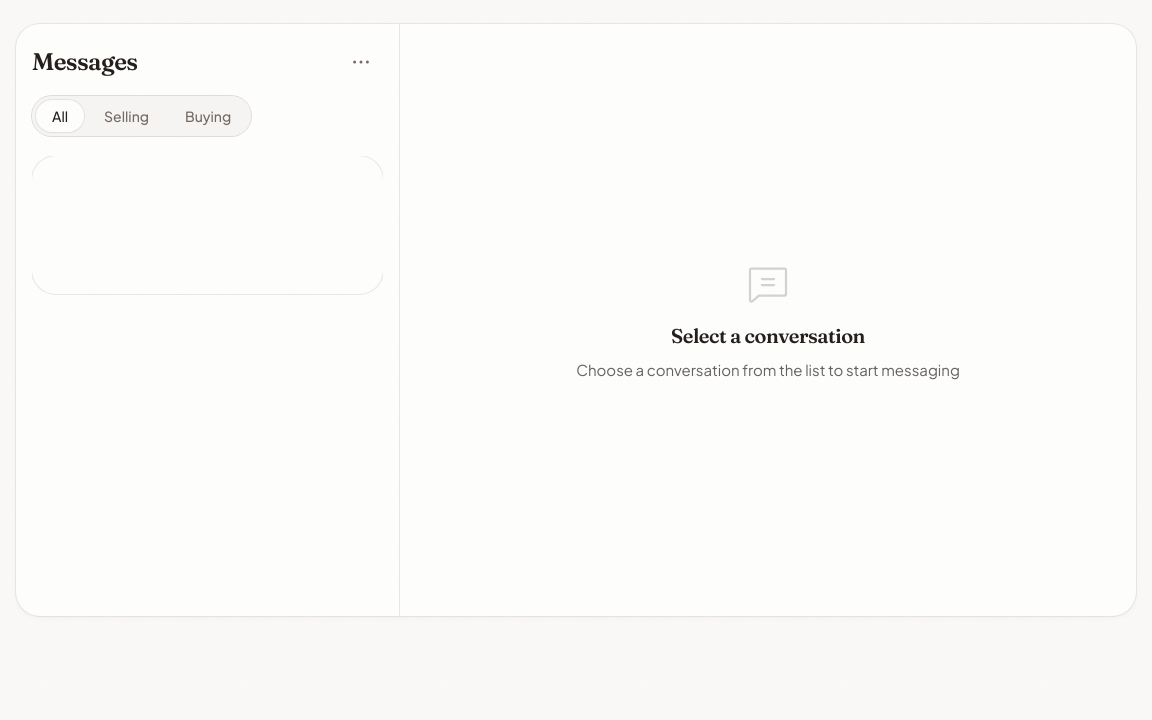
Test case: MessagesPage - inbox states › shows the filtered-empty variant when a role filter has no conversations
Click the tab "Selling" at [126, 116], box [88,100,165,132]
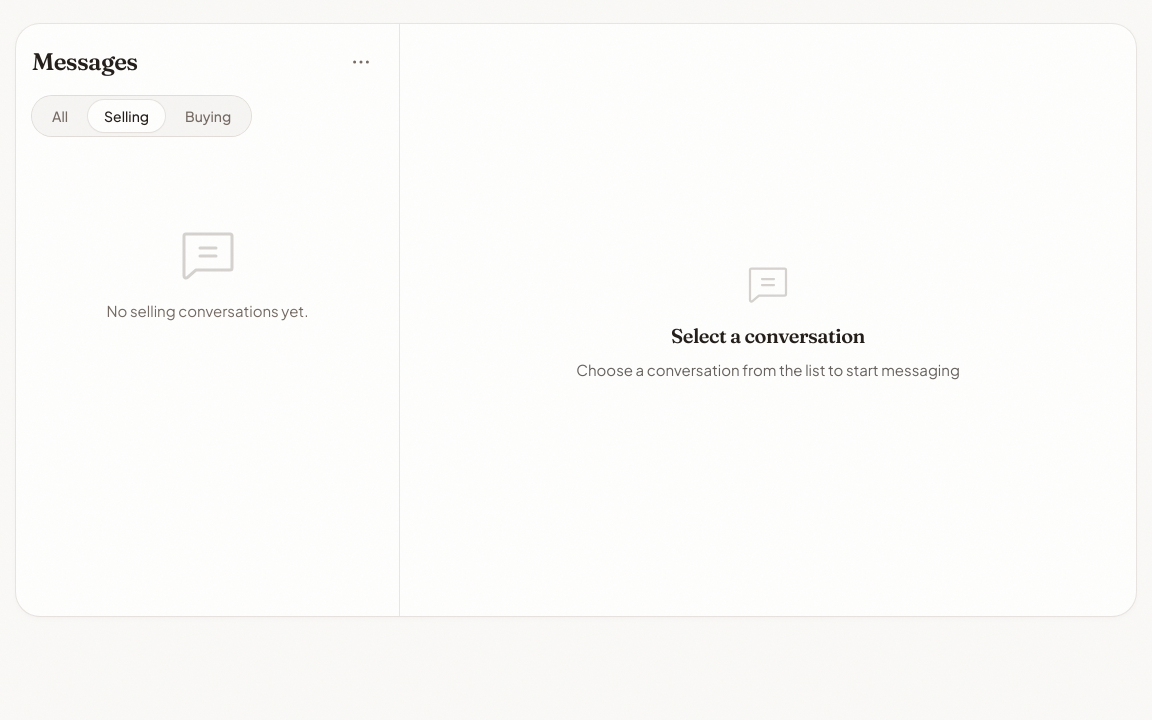
Expected: the text "No selling conversations yet." is shown, [106,301,308,320]
